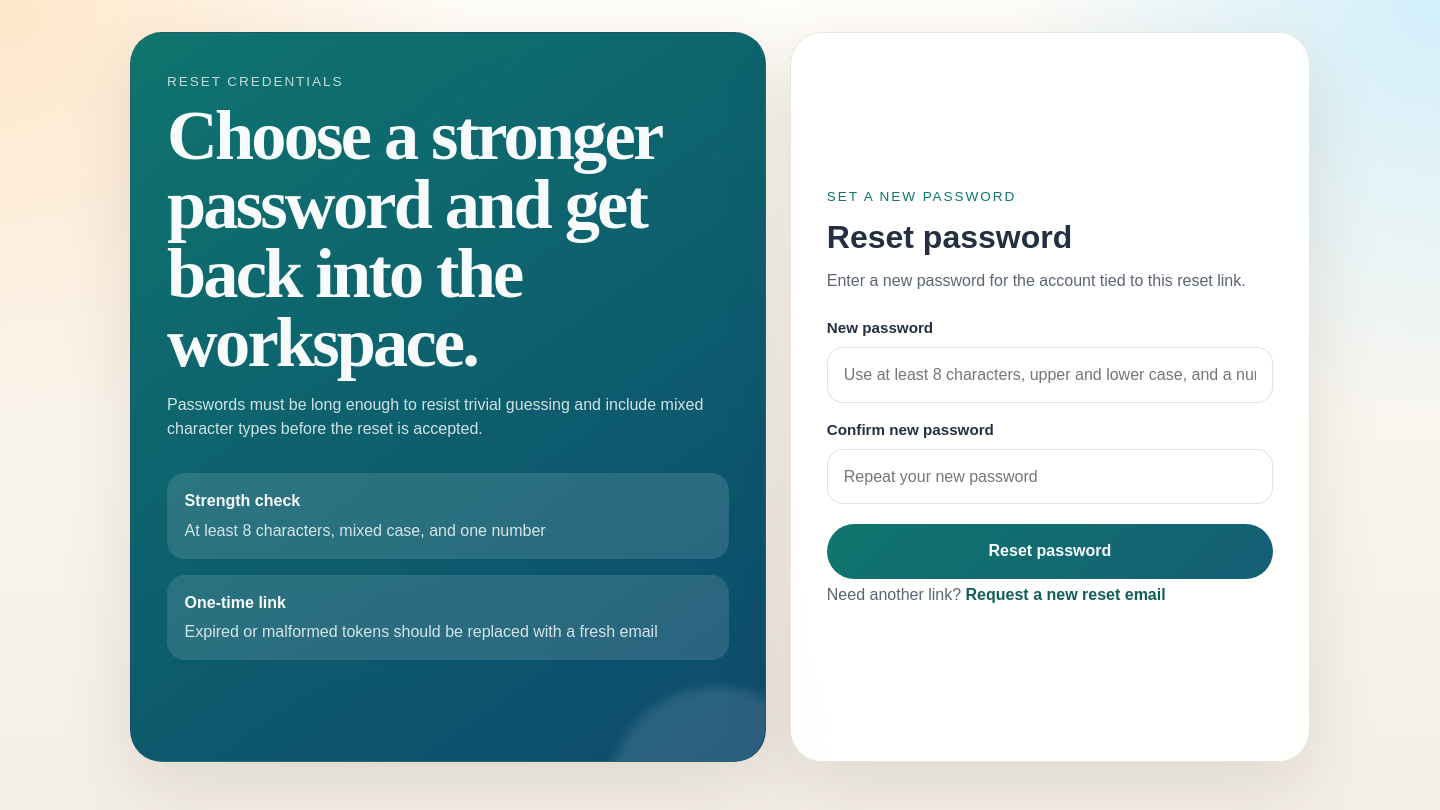
Test case: authentication app flow › shows reset password errors from the API
In the password field labelled "New password": [1050, 375] box [827,347,1273,403], type "NewPassword1"
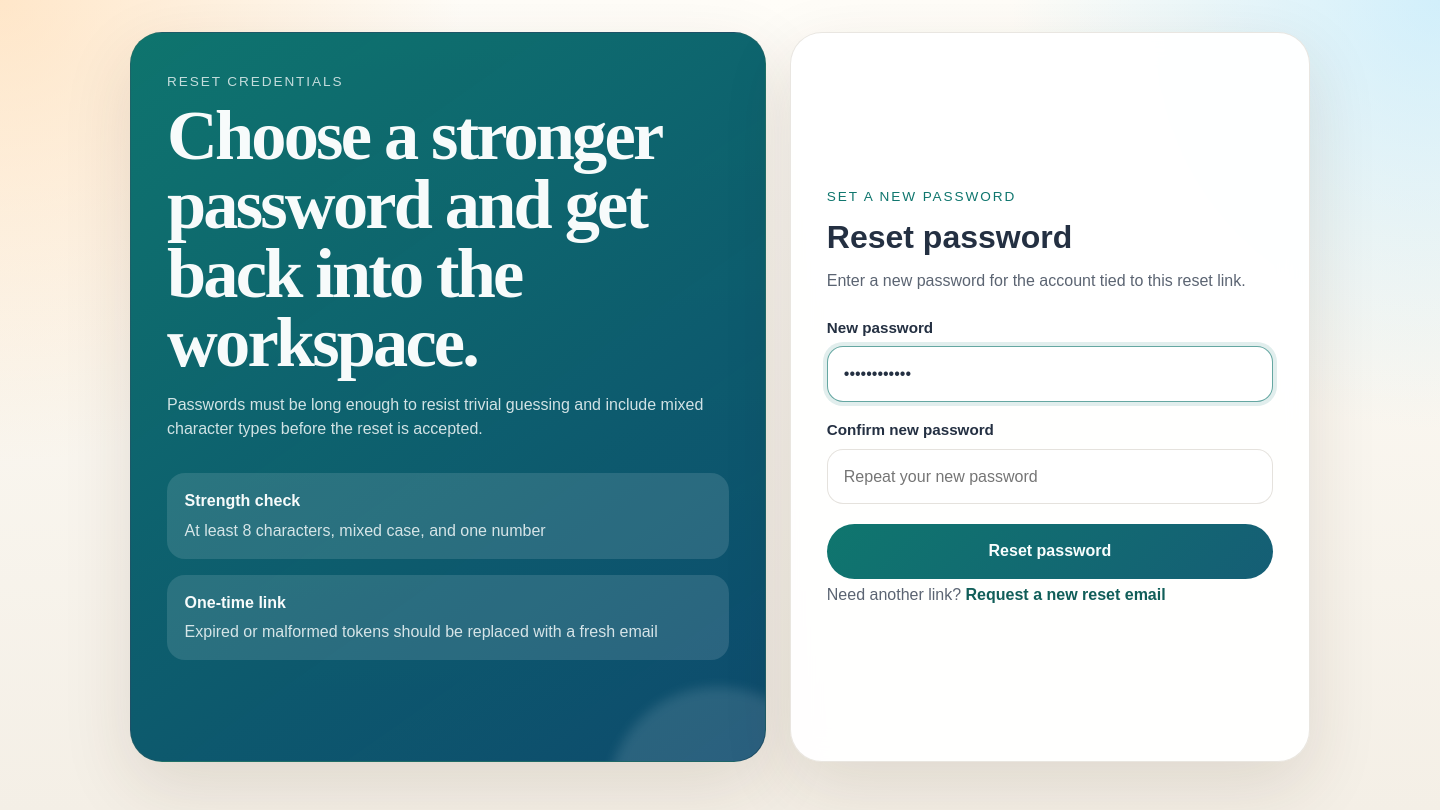
In the password field labelled "Confirm new password": [1050, 476] box [827,449,1273,504], type "NewPassword1"
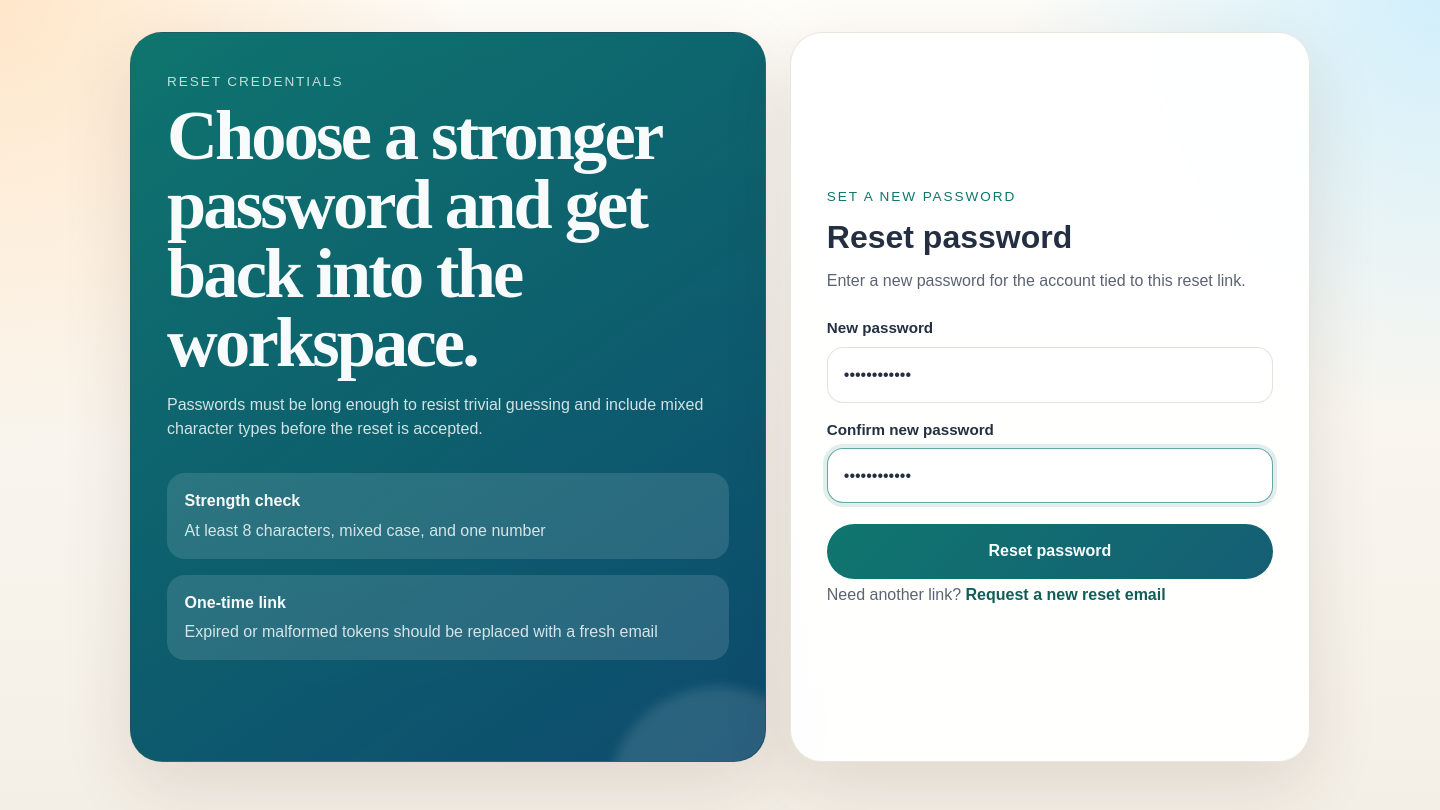
Click the button "Reset password": [1050, 551] box [827,524,1273,579]
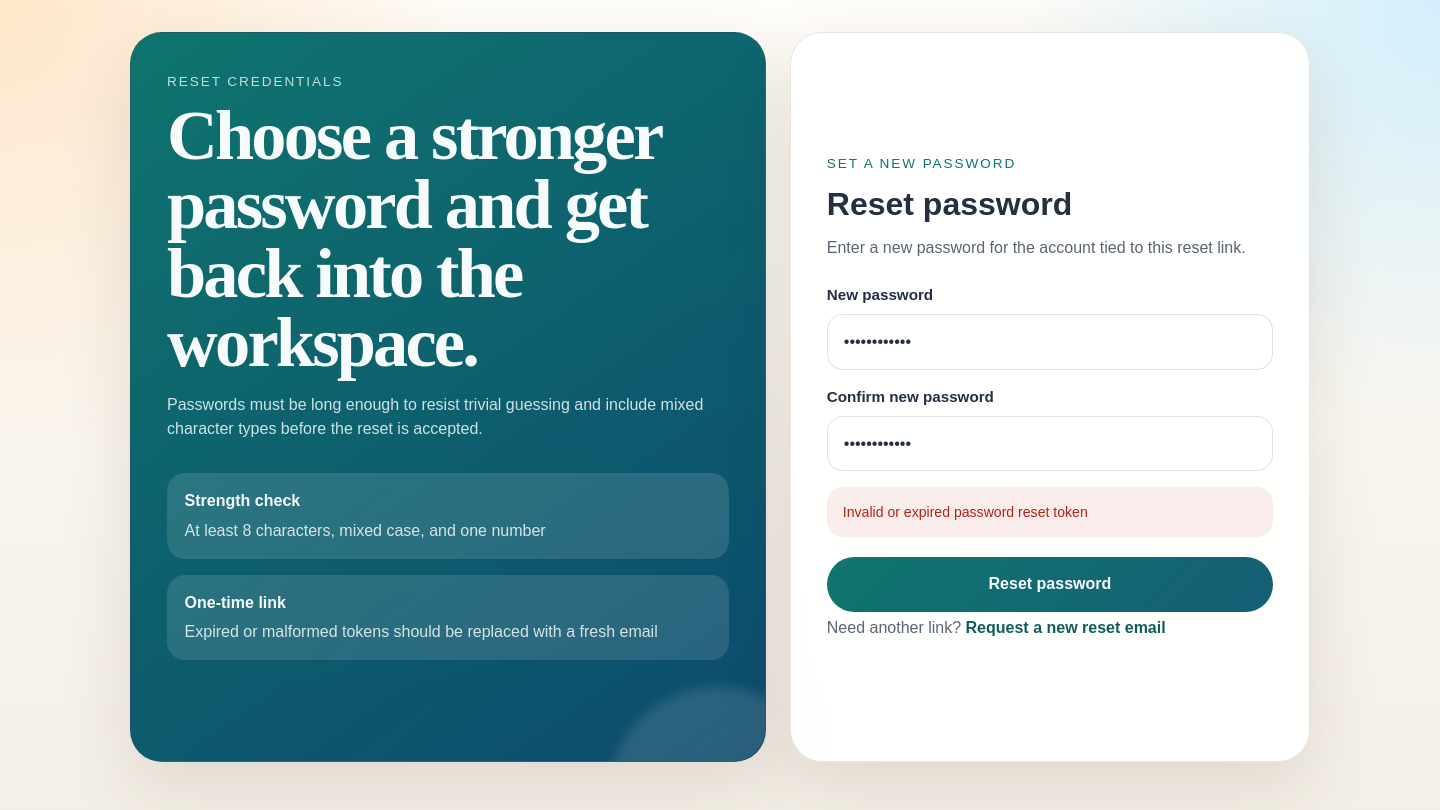
Result: the text "Invalid or expired password reset token" is shown at [827,487,1273,537]
